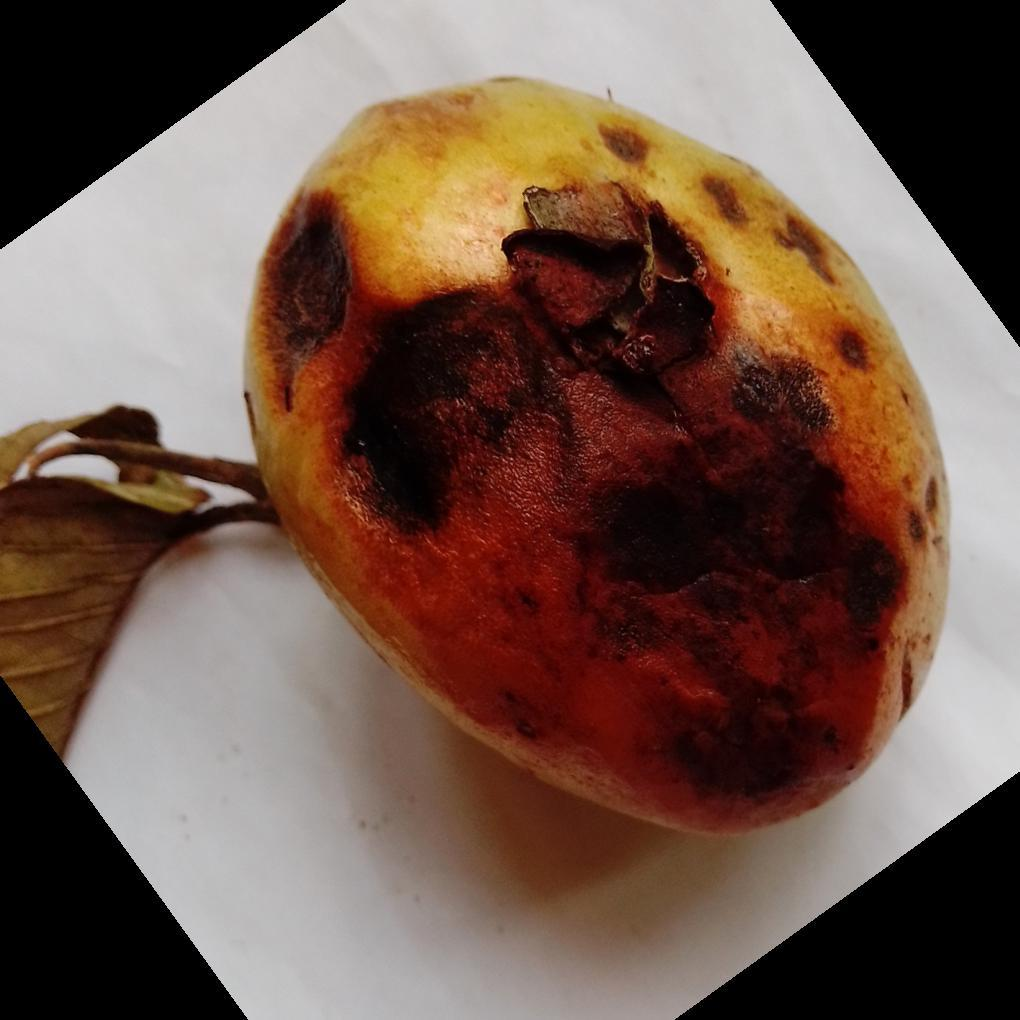FreshOrange: (240, 76, 953, 842)
